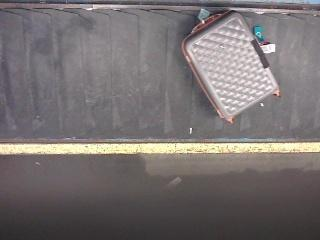Suitcase: (182, 11, 280, 124)
